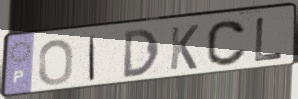C: (205, 19, 249, 68)
D: (122, 27, 161, 80)
I: (87, 34, 97, 82)
K: (168, 23, 201, 72)
L: (252, 16, 285, 64)
O: (37, 37, 75, 87)
